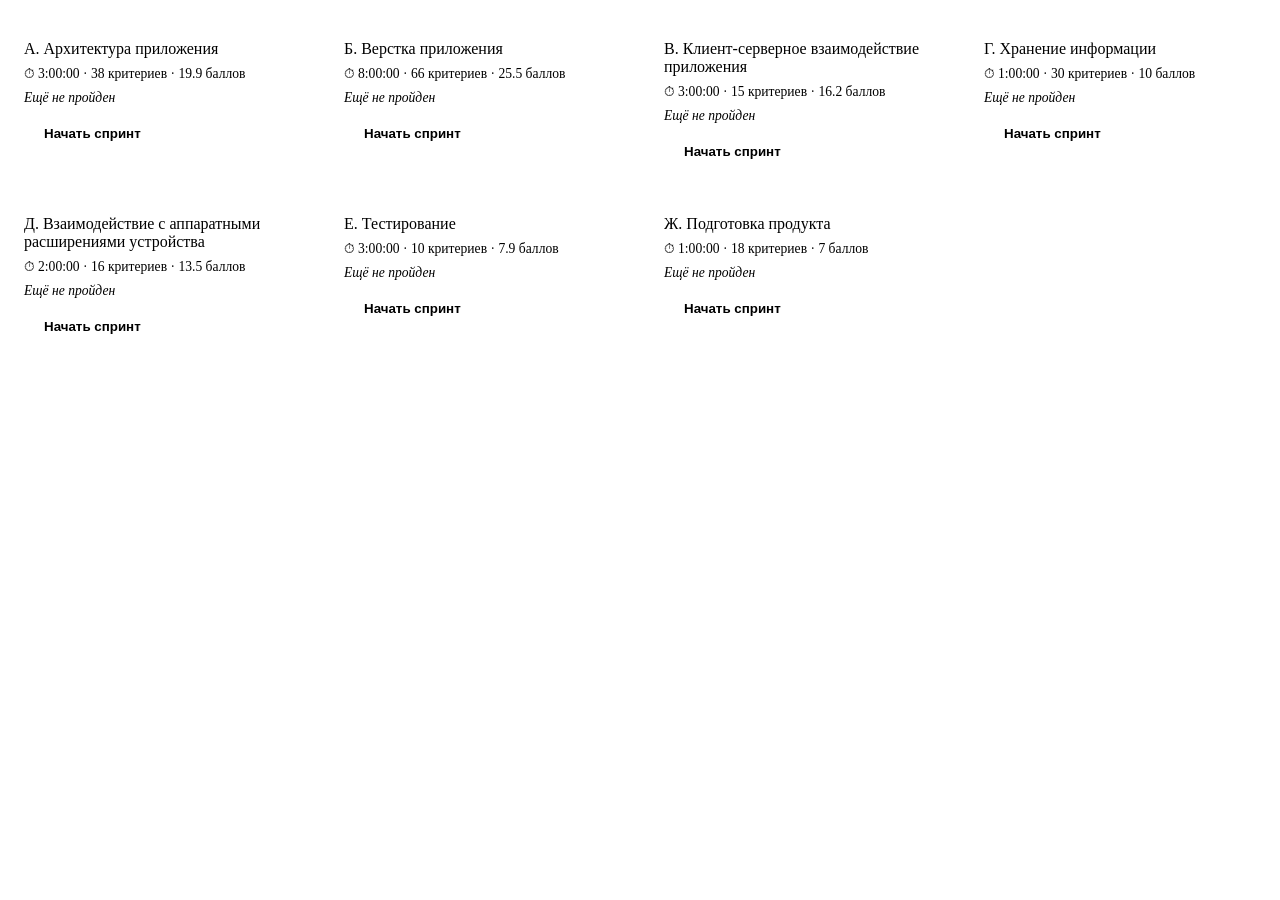
dragging a judgement slider adds its value to the live total
Step 1. Click the button "Начать спринт" below "18" → (732, 308), box x1=664 y1=293 x2=801 y2=324
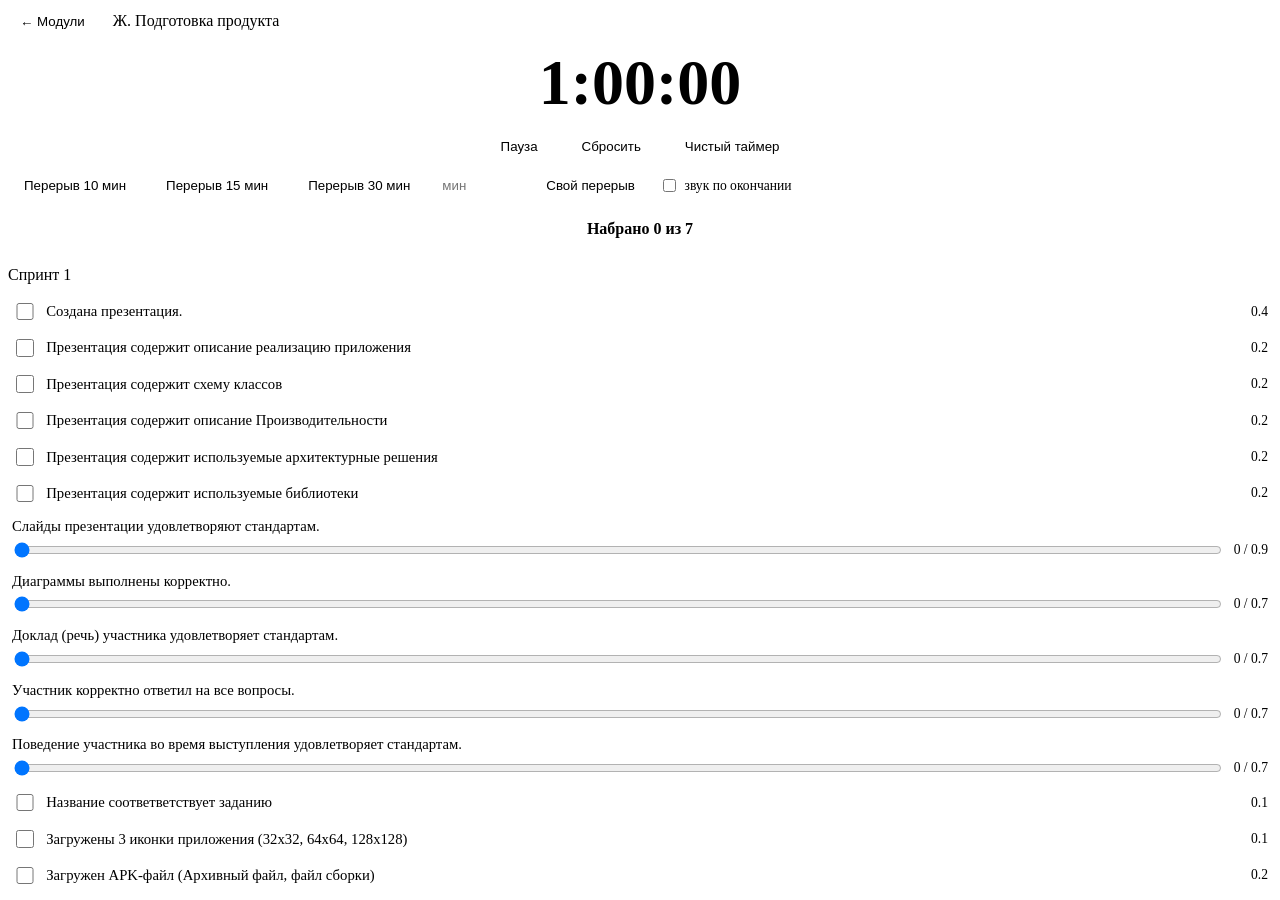
Step 2. Set the slider named "Слайды презентации удовлетворяют стандартам." to "0.9" → (1214, 550), box x1=14 y1=542 x2=1222 y2=558
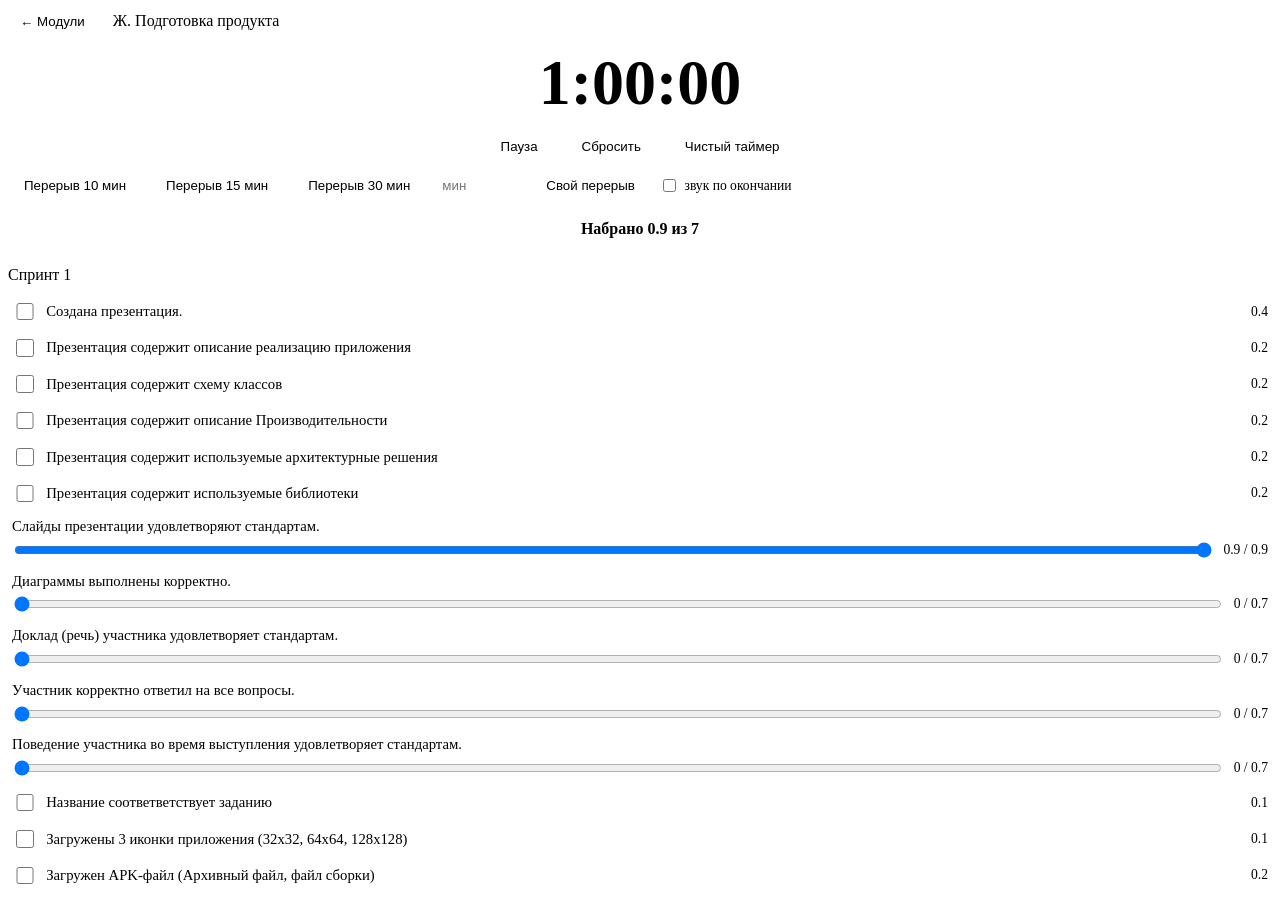
Check: the text "Набрано 0.9 из 7" is shown, box x1=581 y1=220 x2=699 y2=237
Step 3. Set the slider named "Слайды презентации удовлетворяют стандартам." to "0.3" → (416, 550), box x1=14 y1=542 x2=1212 y2=558
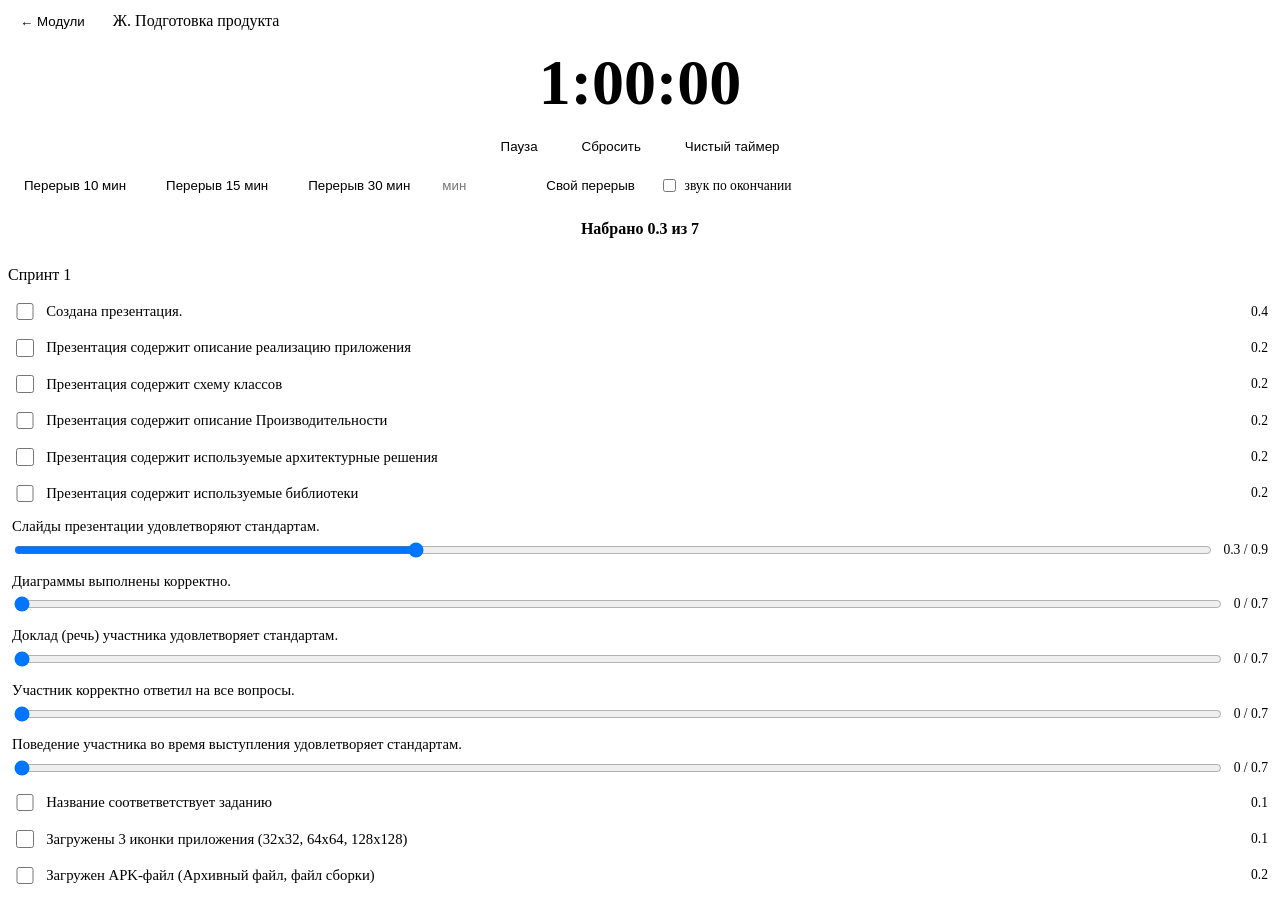
Check: the text "Набрано 0.3 из 7" is shown, box x1=581 y1=220 x2=699 y2=237
